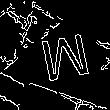M_S: (38, 32, 94, 91)
